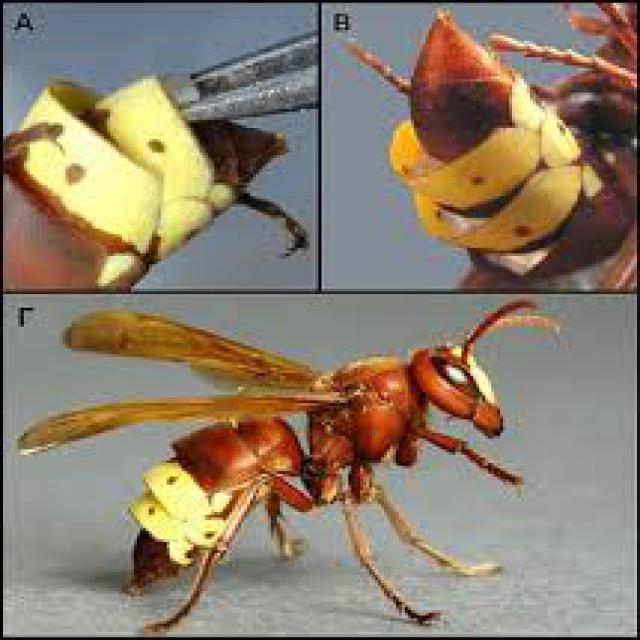Vespa Orientalis: (42, 301, 573, 637)
